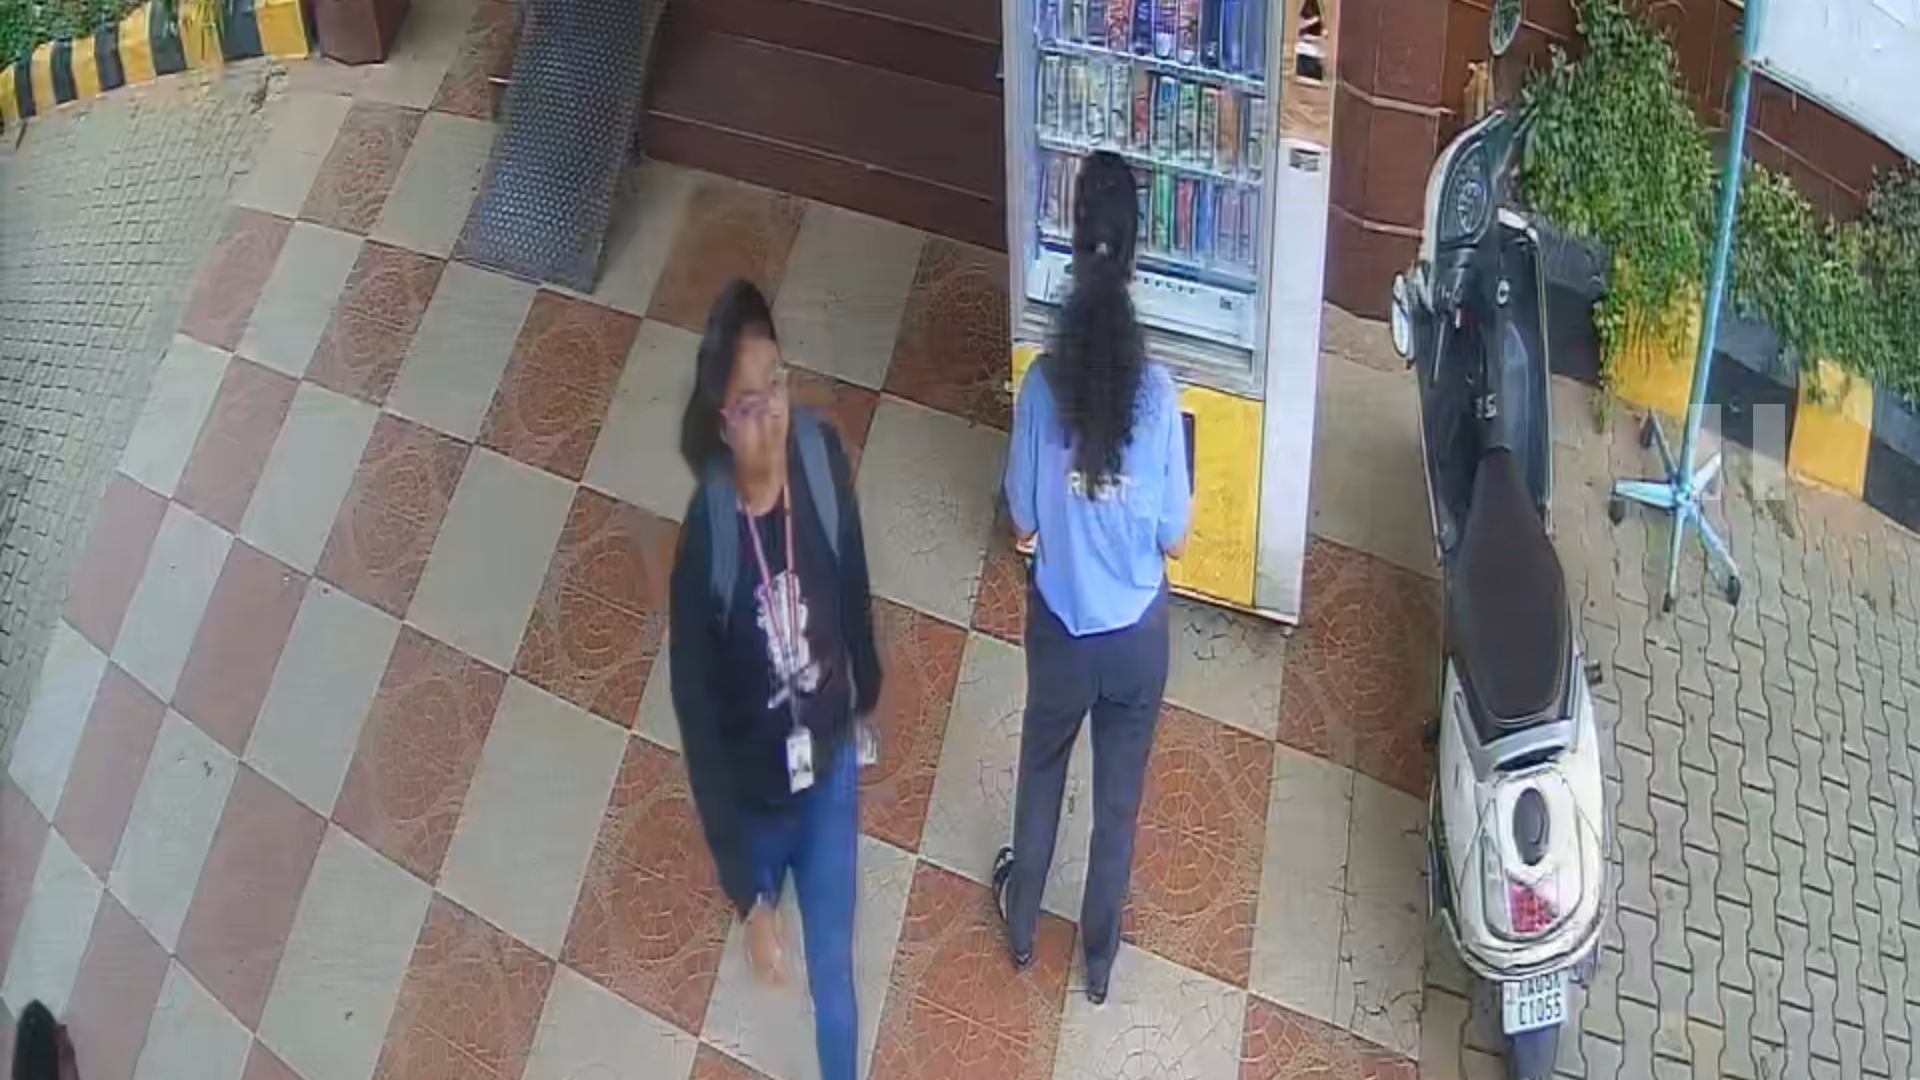not intruder: (653, 276, 895, 1080)
